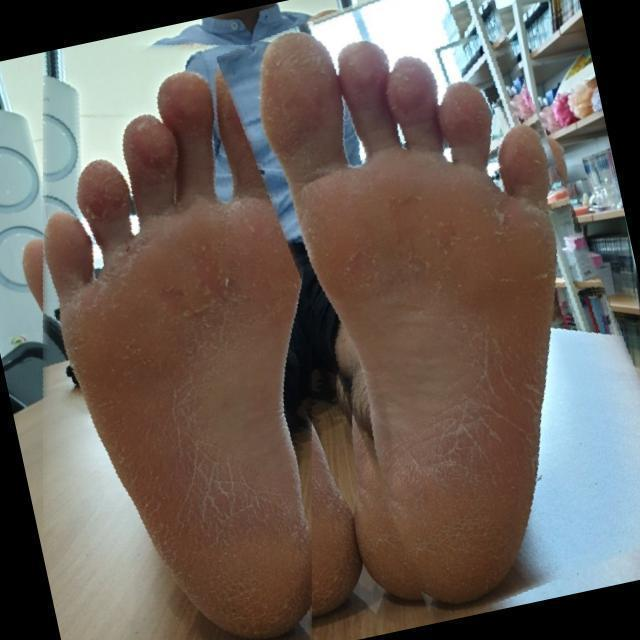No_Shoes: (278, 19, 560, 603), (64, 50, 298, 640)
